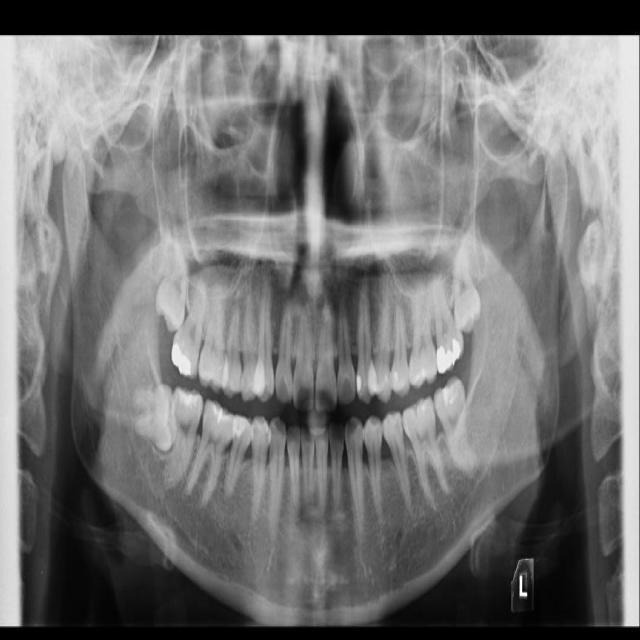Filling: (434, 375, 465, 416), (436, 338, 464, 375), (169, 343, 194, 376), (367, 361, 383, 396), (211, 402, 234, 424), (176, 390, 201, 405), (391, 370, 408, 390), (234, 417, 249, 437), (355, 372, 362, 394)
impacted tooth: (123, 386, 177, 448), (451, 224, 480, 330), (157, 233, 187, 329)
